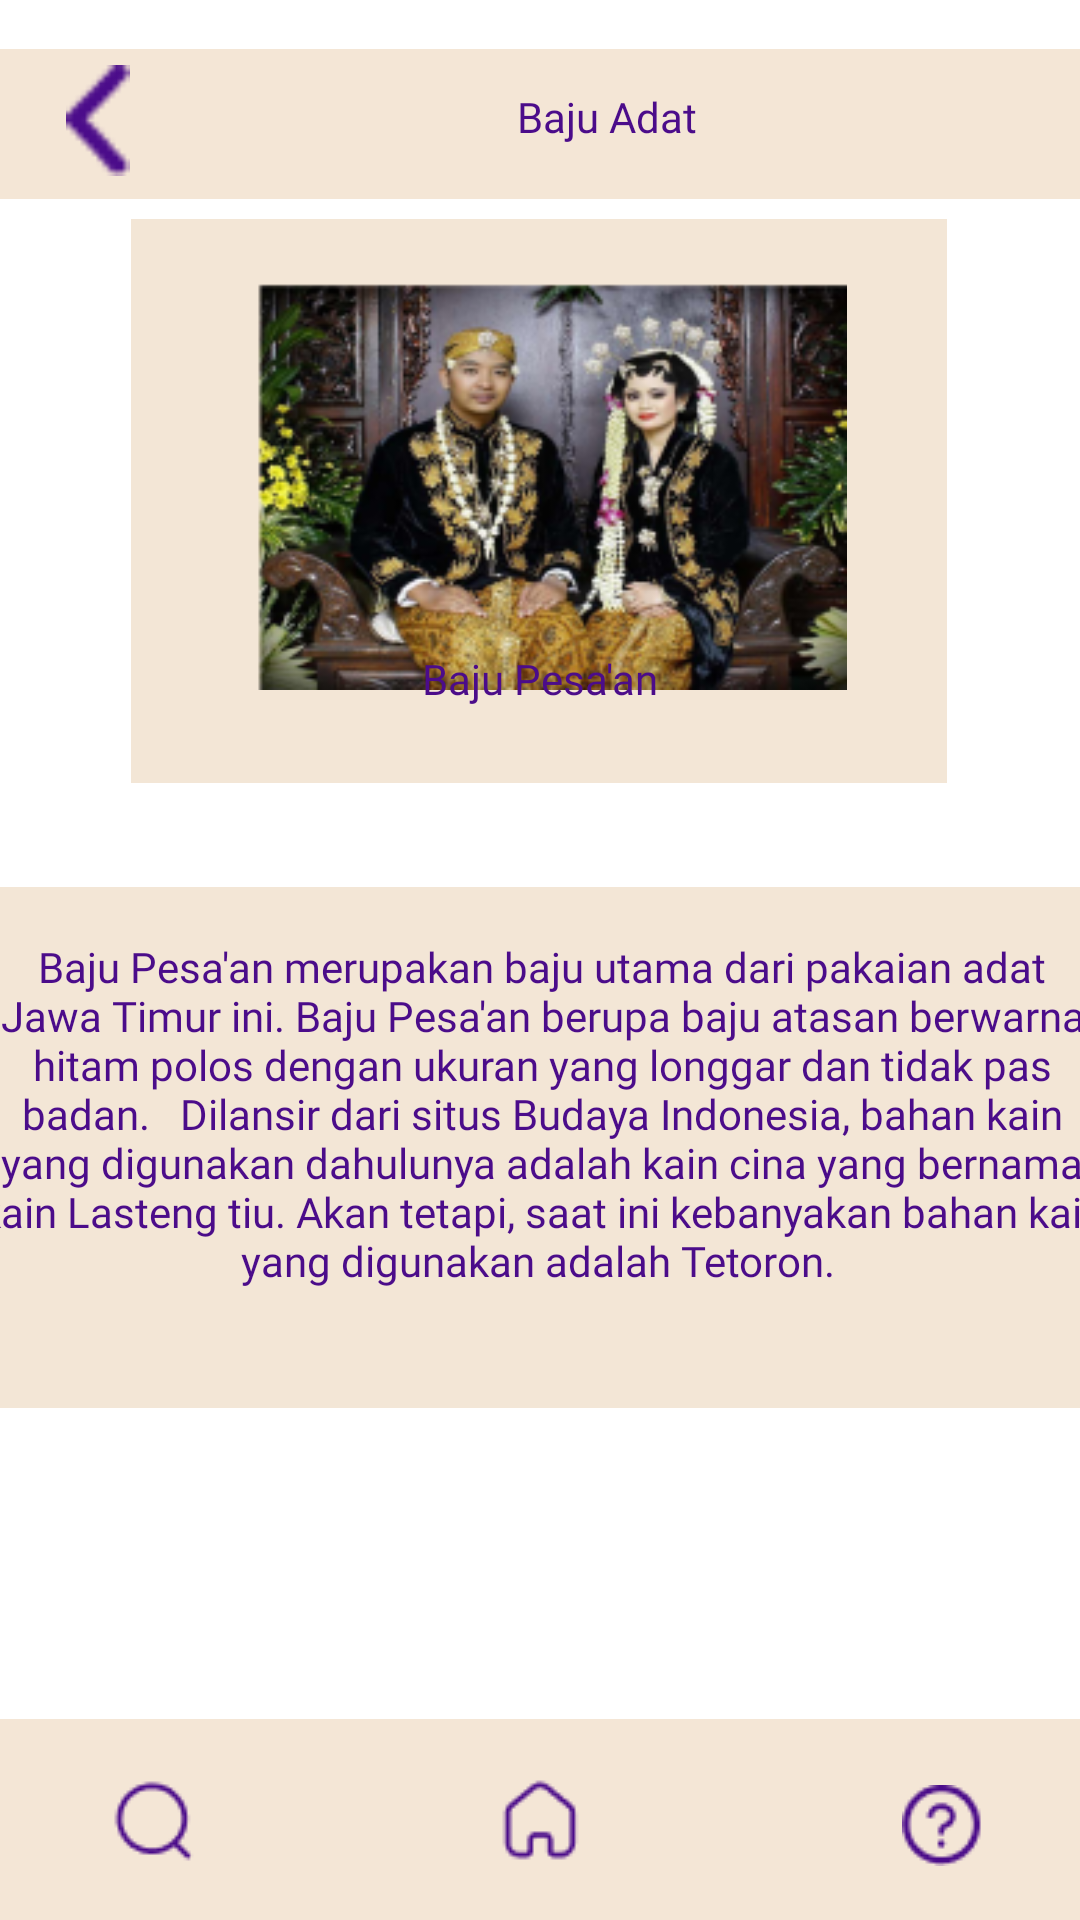

Icon bounding boxes for this 1080px x 1920px phone screenshot, format (x1, y1, x2, y2):
homeee: (503, 1780, 577, 1860)
tanya: (902, 1785, 981, 1866)
xearch: (114, 1781, 191, 1861)
